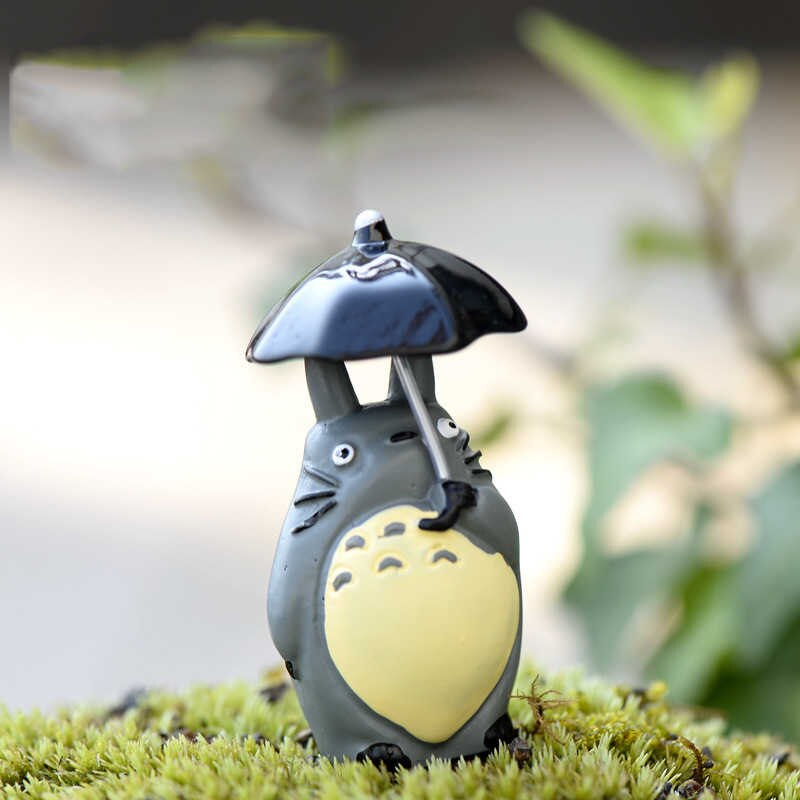Totoro: (250, 337, 556, 780)
